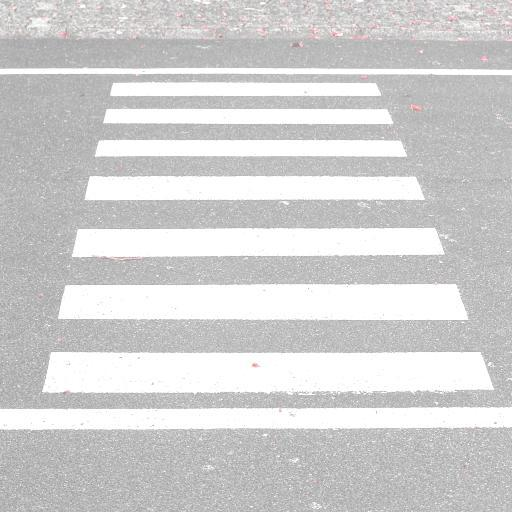crosswalk: (34, 282, 498, 399), (68, 166, 450, 266), (100, 78, 396, 131)
